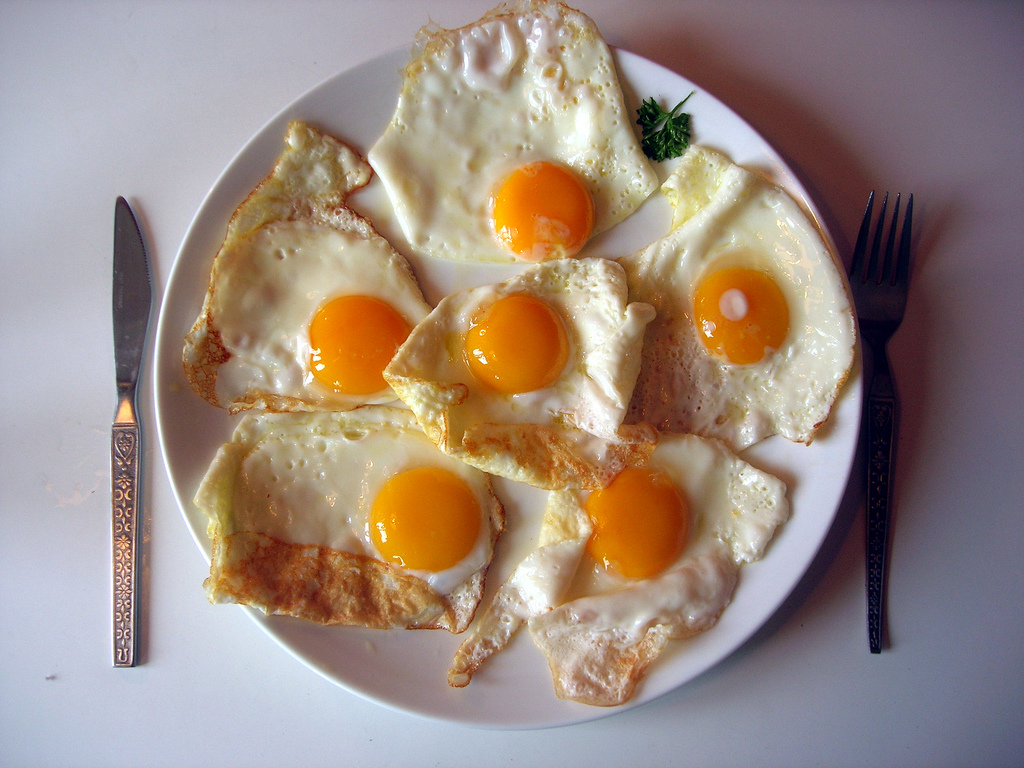fried egg: (403, 37, 635, 265), (226, 438, 493, 634), (534, 444, 737, 656), (635, 222, 842, 421), (214, 222, 423, 416), (420, 272, 623, 465)
